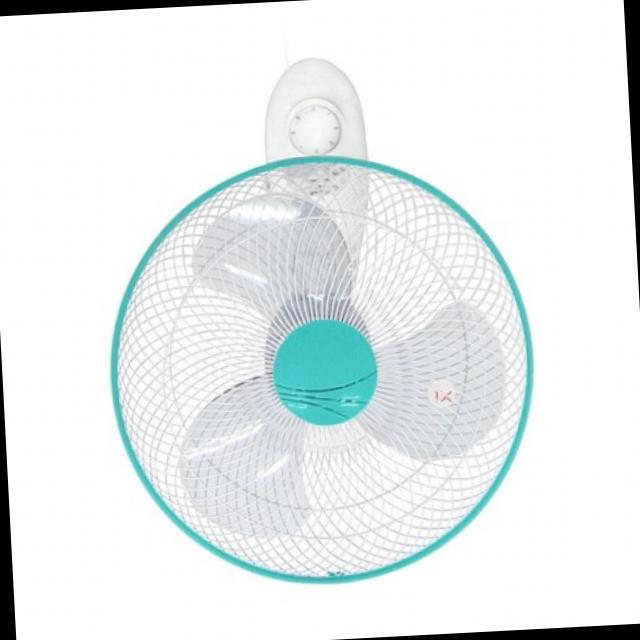fan: (91, 45, 552, 602)
